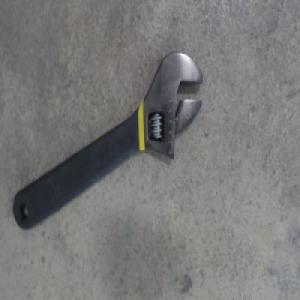AdjustableWrench: (13, 52, 202, 231)
